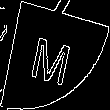M_N: (31, 25, 79, 85)
